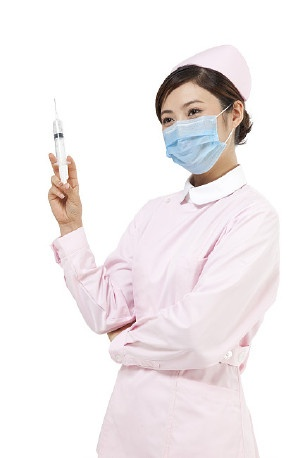Mask: (157, 98, 234, 175)
